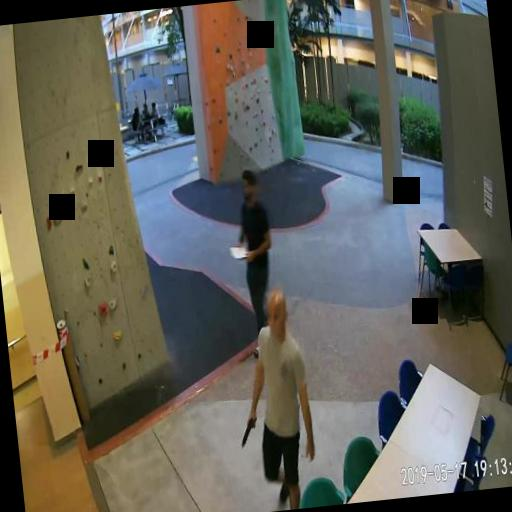Handgun: (238, 413, 258, 448)
